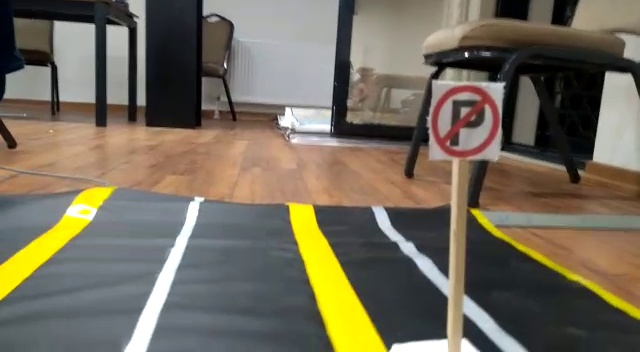park_yapilmaz: (430, 82, 502, 158)
